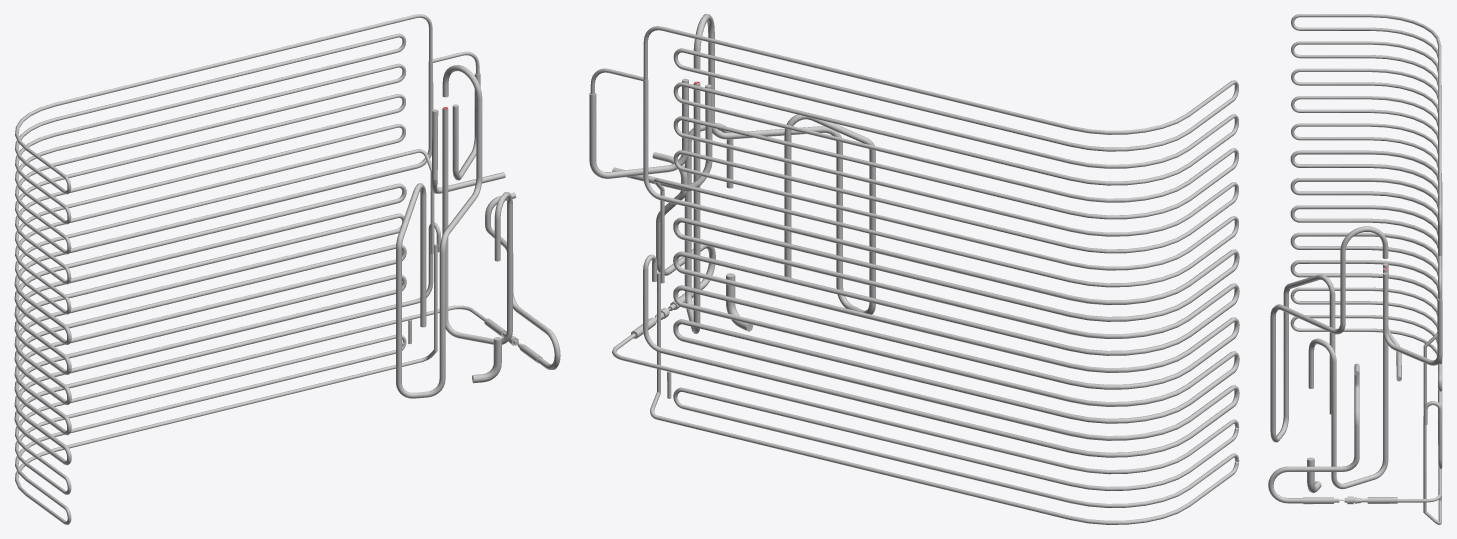
Rendered from Pipe flow.fbx.
3 views of the same model, side by side, from view 1: azimuth 30°, elevation 25°; view 2: azimuth 150°, elevation 25°; view 3: azimuth 270°, elevation 25° (orthographic). The views are drawn at different scales.
Parts seen in each view (by area): view 1: Flow_019, Flow_04, Flow_06, Flow_016, Flow_014, Flow_015, Flow_011, Flow_013; view 2: Flow_019, Flow_04, Flow_06, Flow_016, Flow_014, Flow_011, Flow_015, Flow_013; view 3: Flow_019, Flow_04, Flow_016, Flow_06, Flow_014, Flow_015, Flow_011, restrictor_Flow, Flow_017, Flow_013, restrictor_Flow Left.
Boxes of the visible parts, <box> form: Flow_019: <box>14,61,440,465</box>; Flow_04: <box>15,14,434,314</box>; Flow_06: <box>15,244,486,524</box>; Flow_016: <box>396,65,482,398</box>; Flow_014: <box>442,107,512,344</box>; Flow_015: <box>485,192,560,369</box>; Flow_011: <box>452,73,480,180</box>; Flow_013: <box>431,109,505,193</box>; Flow_019: <box>643,79,1239,457</box>; Flow_04: <box>643,26,1238,287</box>; Flow_06: <box>612,272,1239,524</box>; Flow_016: <box>693,14,875,314</box>; Flow_014: <box>684,81,733,333</box>; Flow_011: <box>589,78,688,178</box>; Flow_015: <box>652,152,715,289</box>; Flow_013: <box>612,84,712,191</box>; Flow_019: <box>1290,150,1442,468</box>; Flow_04: <box>1291,14,1441,407</box>; Flow_016: <box>1270,226,1388,442</box>; Flow_06: <box>1290,287,1441,524</box>; Flow_014: <box>1308,268,1388,489</box>; Flow_015: <box>1268,363,1359,503</box>; Flow_011: <box>1383,273,1442,365</box>; restrictor_Flow: <box>1354,497,1397,503</box>; Flow_017: <box>1307,458,1321,493</box>; Flow_013: <box>1383,263,1401,381</box>; restrictor_Flow Left: <box>1303,497,1339,504</box>.
Bounding box in the file's own units: 0.7419 × 0.4995 × 0.2486.
